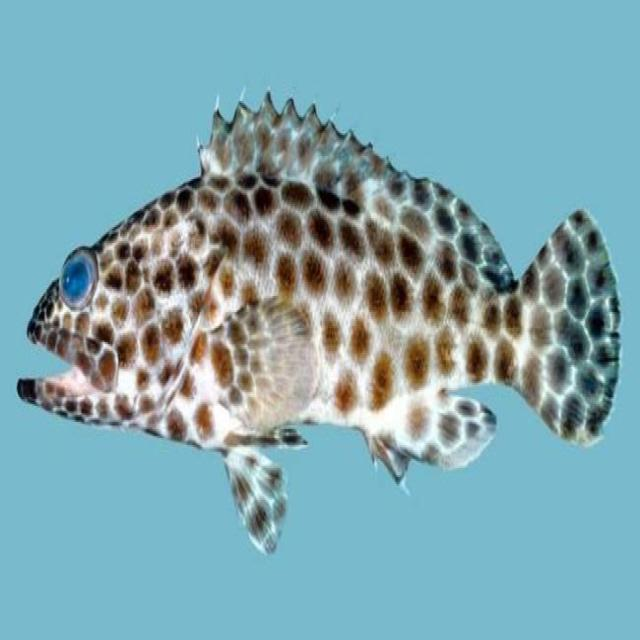ikan: (16, 85, 622, 555)
